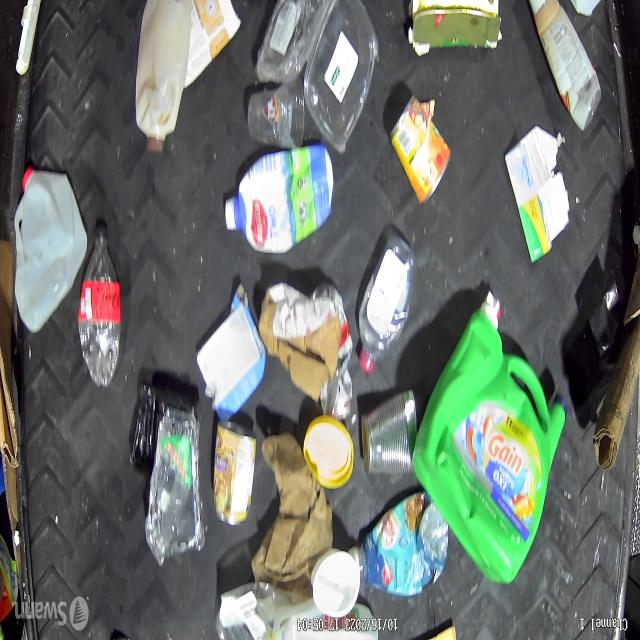can: (362, 387, 418, 478), (212, 420, 257, 526)
milk_jug: (14, 162, 86, 329), (135, 0, 191, 155)
non_white_jug: (416, 291, 566, 584), (223, 153, 334, 254), (352, 486, 452, 598)
plastic_bottle: (78, 224, 124, 391), (355, 236, 410, 373)
